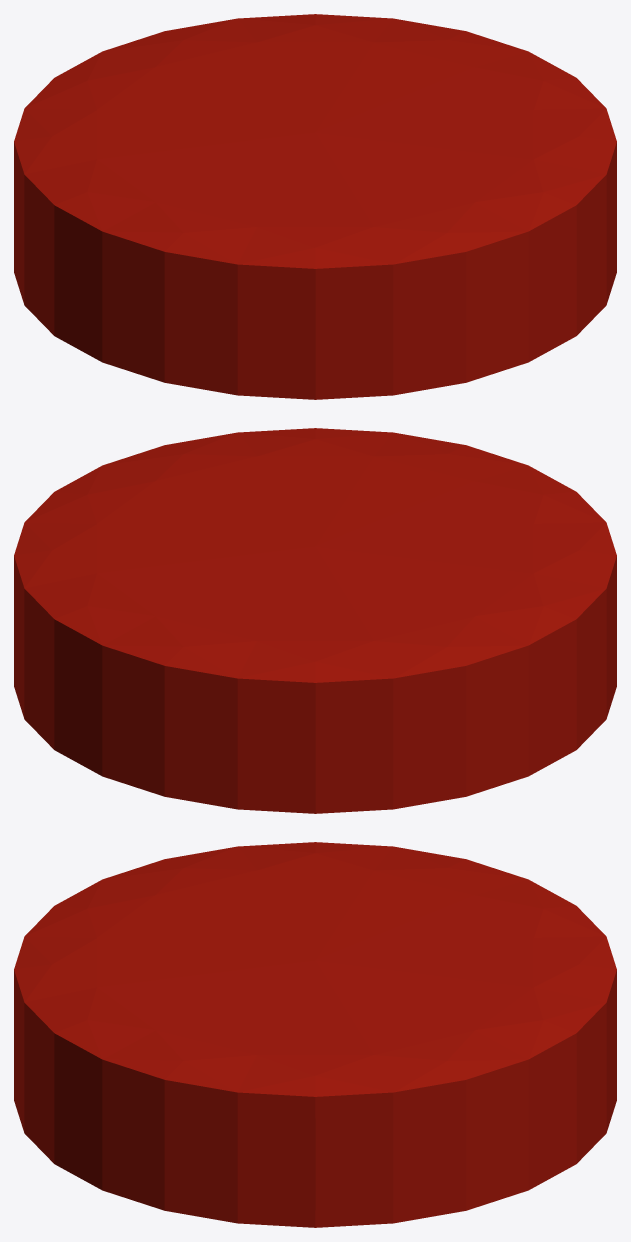
The model's file is Base_cilindro.dae.
The picture shows the model from 3 angles, top to bottom: view 1: azimuth 30°, elevation 25°; view 2: azimuth 150°, elevation 25°; view 3: azimuth 270°, elevation 25°; orthographic projection.
Parts seen in each view (by area): view 1: node0; view 2: node0; view 3: node0.
Boxes of the visible parts, <box> form: node0: <box>14,14,616,399</box>; node0: <box>14,428,616,813</box>; node0: <box>14,842,616,1227</box>.
Size of the model in its own units: 2.4 by 2.4 by 0.6318.
